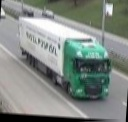truck: (15, 18, 116, 103)
